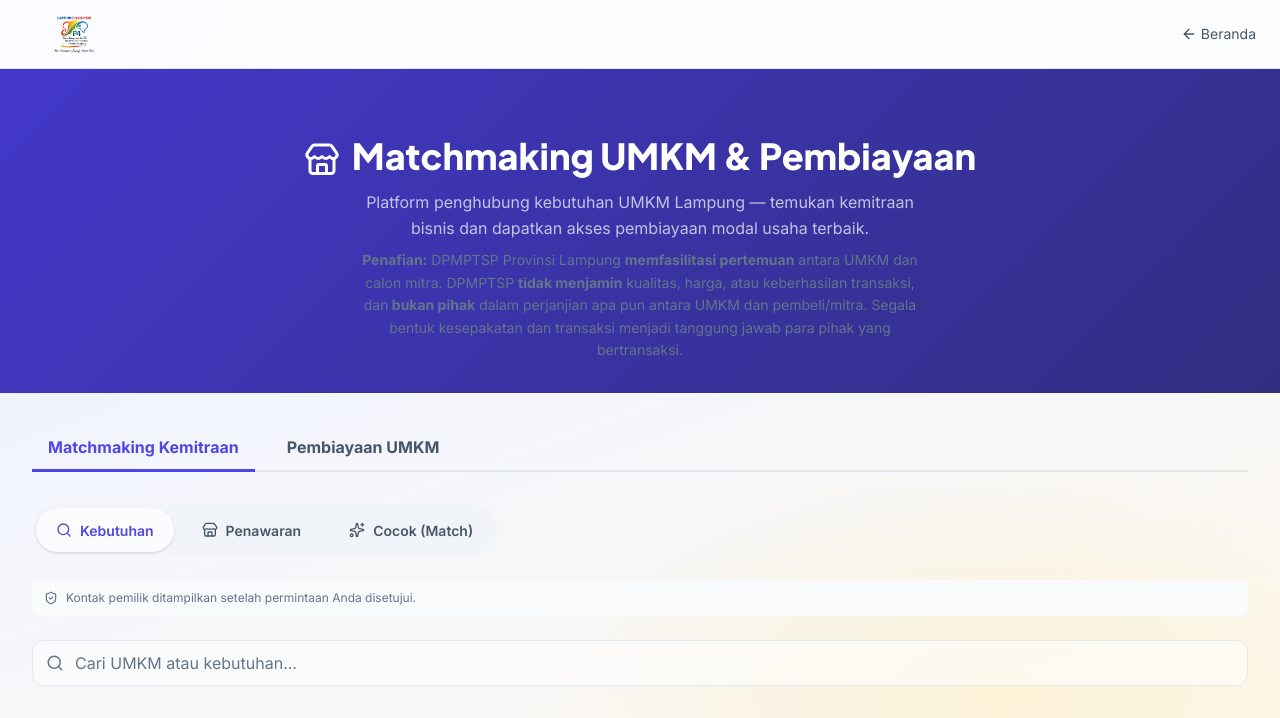
Scenario: UMKM publik: pemuatan listing/match (T6) › tab Cocok (Match) › match gagal: tampil ErrorRetry, BUKAN "Belum Ada Pasangan Match"; Coba lagi memuat ulang
Click the button "Cocok (Match)": (411, 530) top-left (329, 508), bottom-right (493, 552)
(page scrolled)
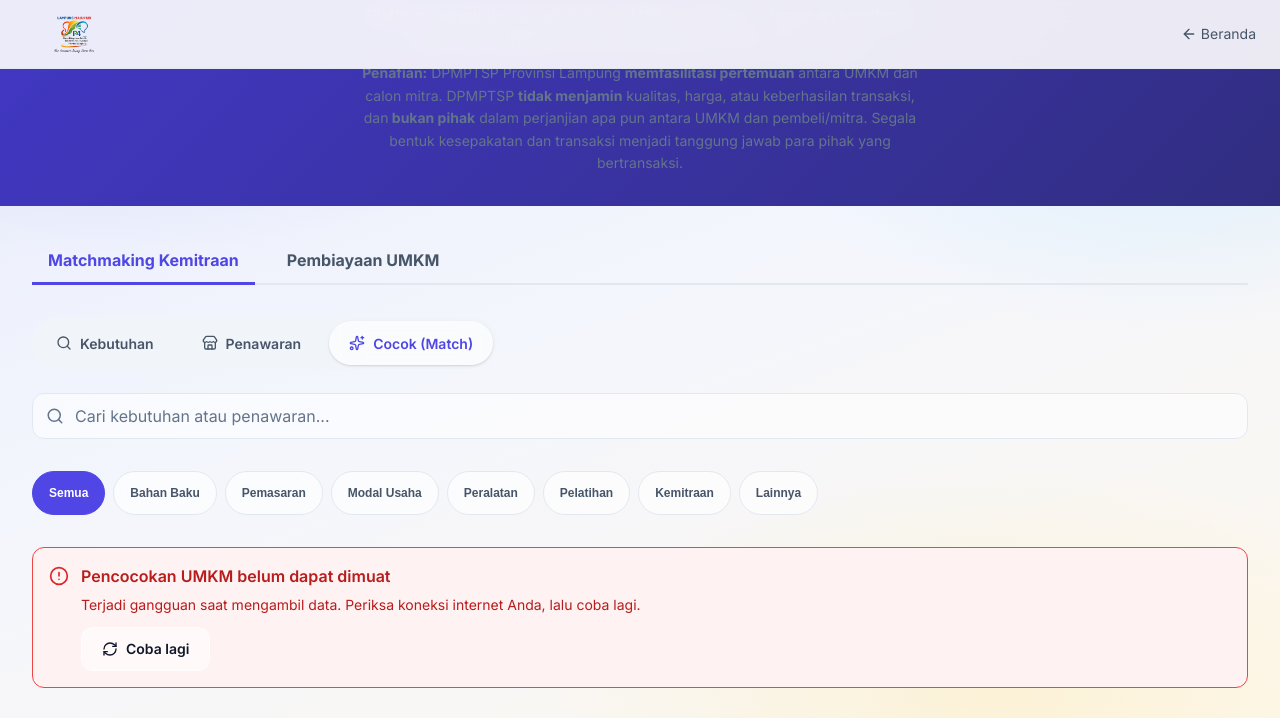
Result: the message shows "Pencocokan UMKM belum dapat dimuat" at top-left (81, 566), bottom-right (390, 586)
Click the button "Coba lagi": (146, 649) top-left (81, 627), bottom-right (210, 671)
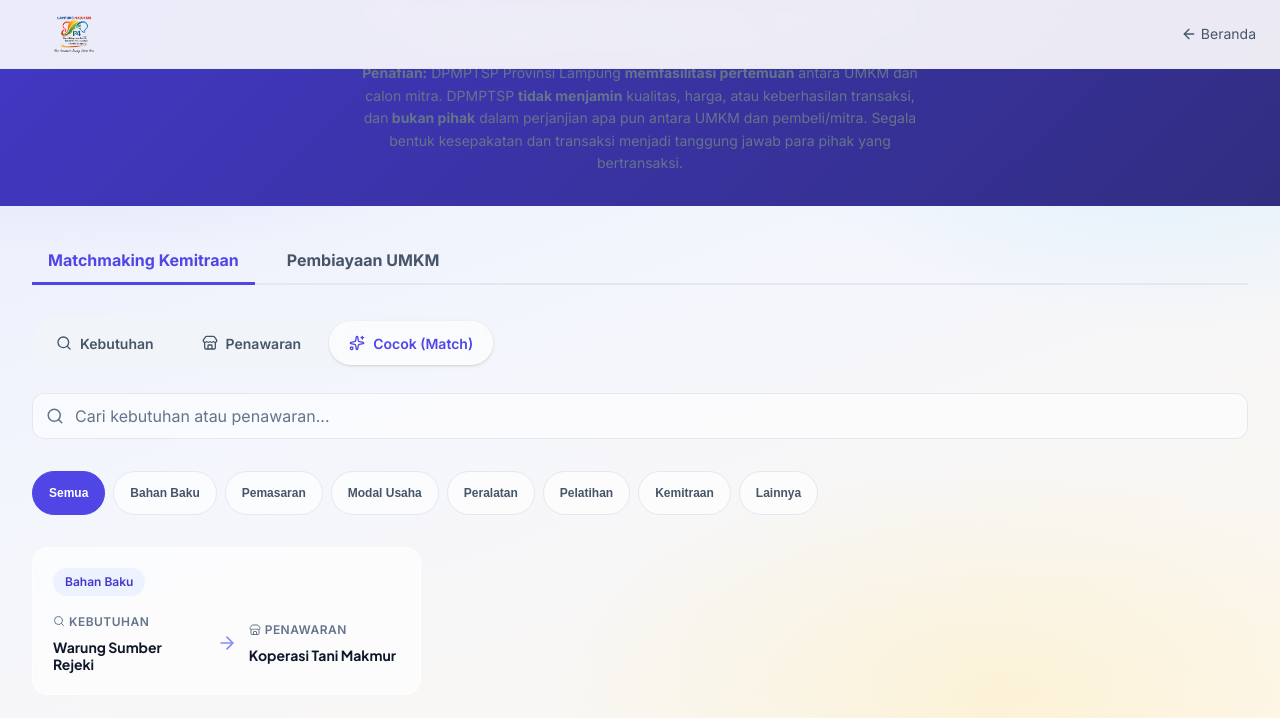
Result: the heading "Warung Sumber Rejeki" is shown at top-left (53, 638), bottom-right (162, 673)
Result: the message is gone
